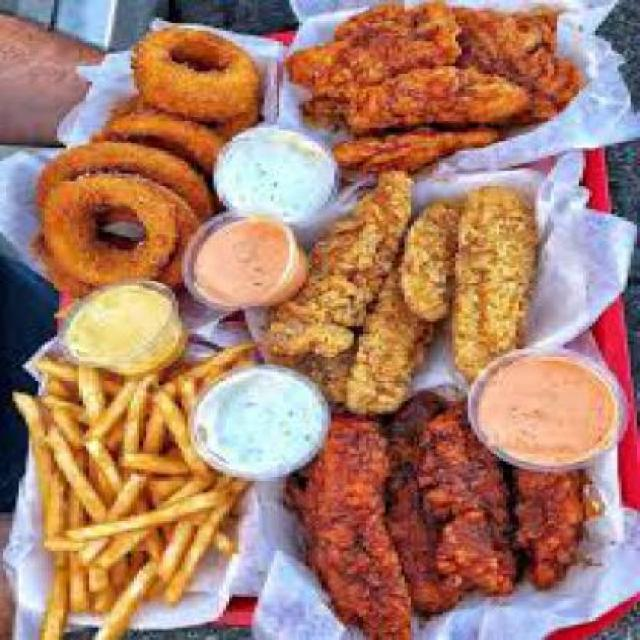french fries: (19, 328, 255, 638)
onion rings: (16, 10, 267, 308)
